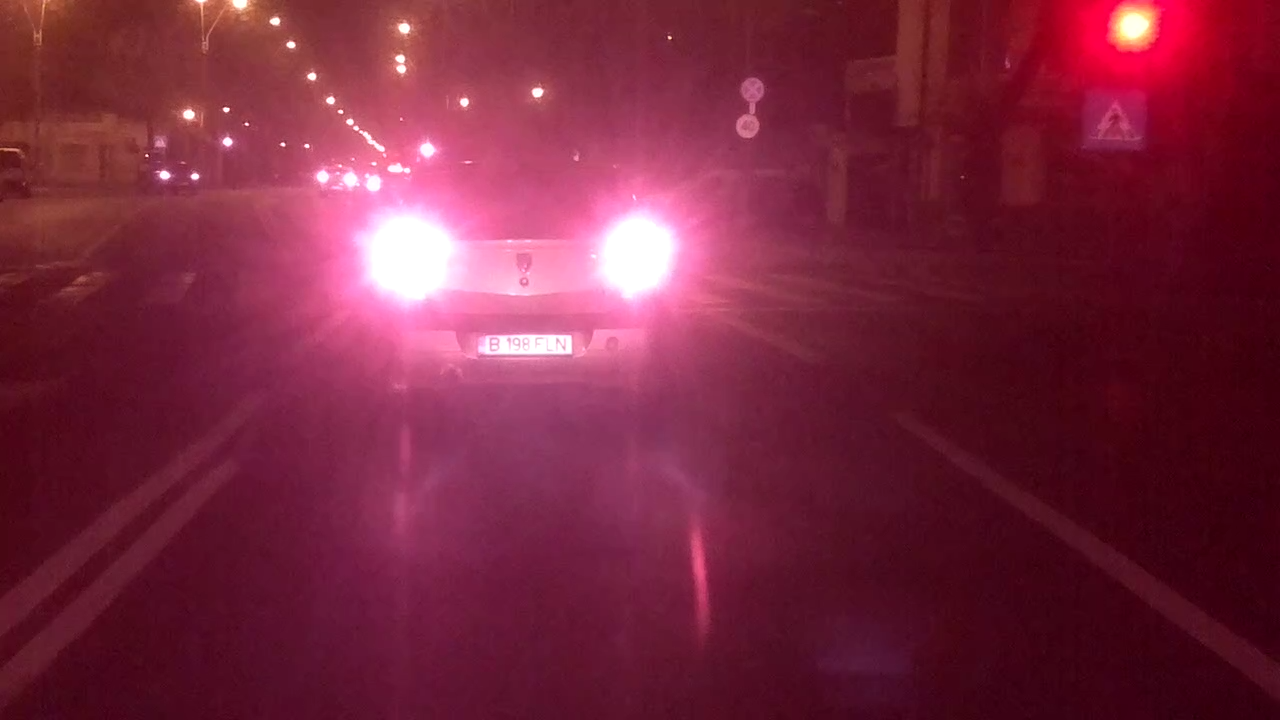license-plate: (473, 330, 577, 360)
